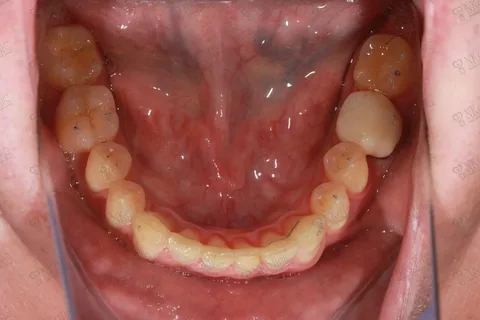LL1BC_decay: (311, 182, 350, 225)
LL1M_healthy: (338, 95, 405, 155)
LL2BC_decay: (324, 146, 368, 190)
LL2M_decay: (354, 34, 420, 91)
LLCI_healthy: (235, 237, 258, 270)
LLC_decay: (286, 211, 327, 257)
LLLI_decay: (258, 229, 293, 268)
LR1BC_healthy: (106, 183, 141, 225)
LR1M_decay: (56, 91, 118, 142)
LR2BC_healthy: (84, 143, 130, 187)
LR2M_healthy: (49, 31, 97, 79)
LRCI_healthy: (207, 235, 230, 269)
LRC_healthy: (135, 212, 164, 260)
LRLI_healthy: (168, 230, 205, 264)
